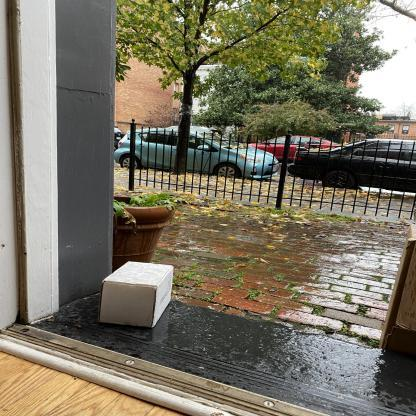package: (91, 259, 180, 331)
